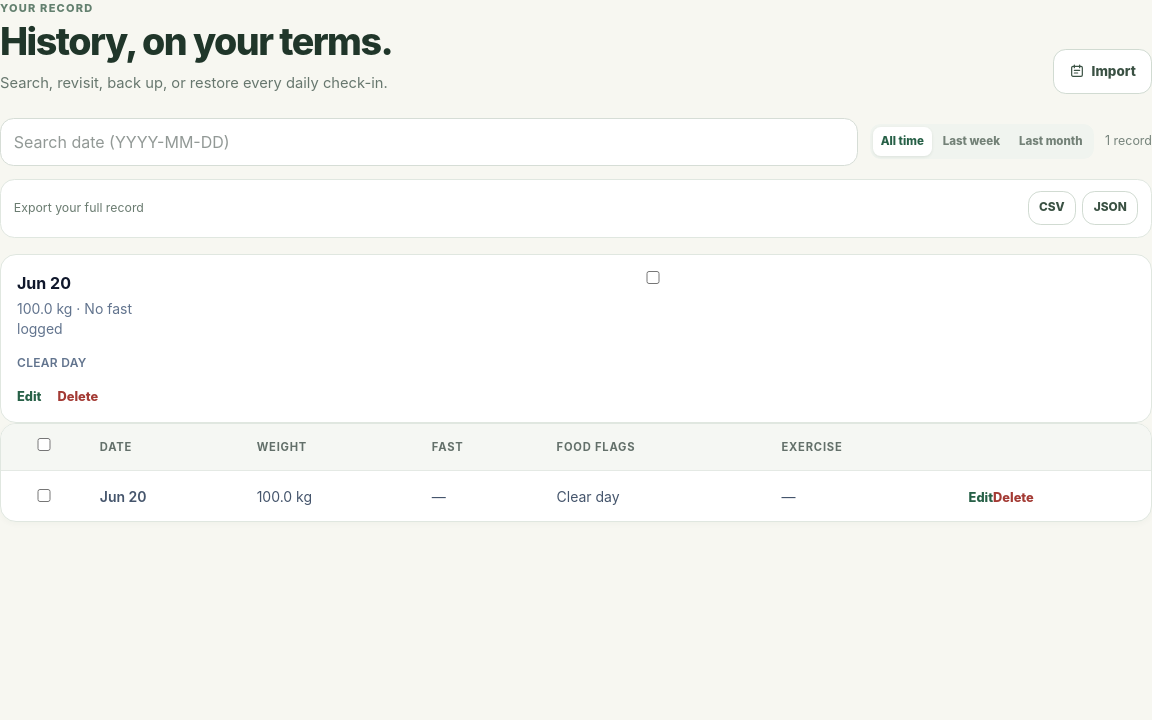
Test: History confirmations › uses an in-app dialog before deleting a record
The image size is (1152, 720).
Click the button "Delete" below "No fast logged": (78, 396) [58,387,98,406]
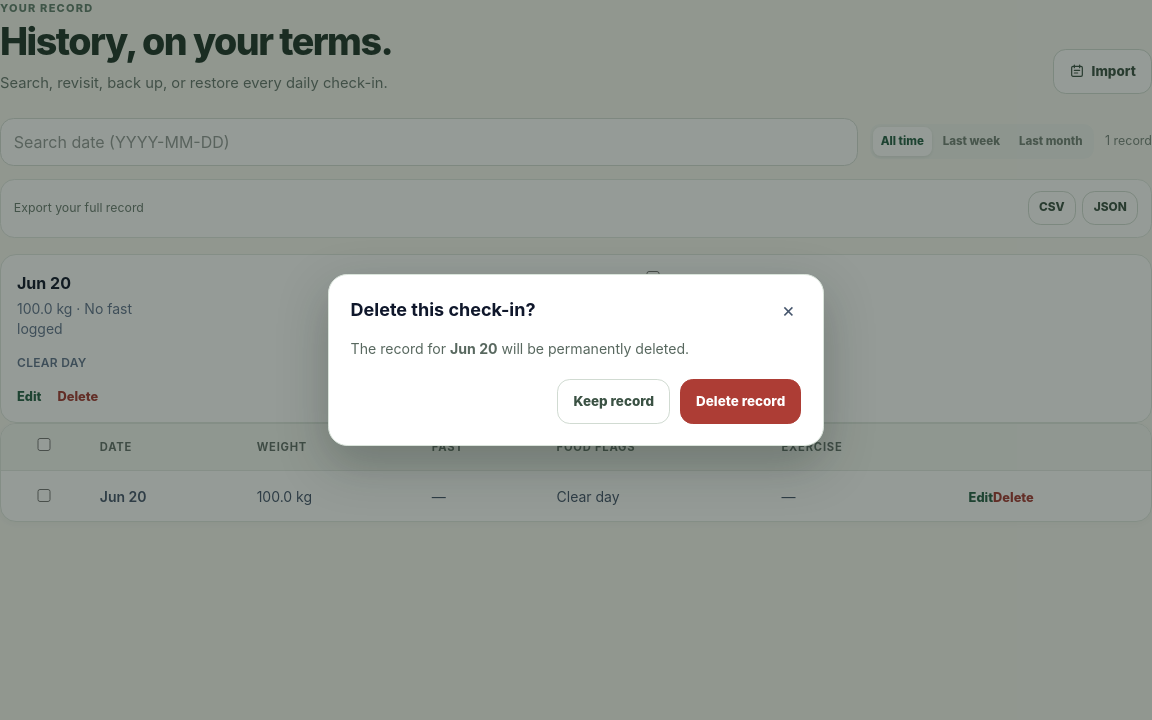
Expected: the dialog "Delete this check-in?" is shown, [328,274,824,446]
Expected: the button "Keep record" is shown, [557,379,670,424]
